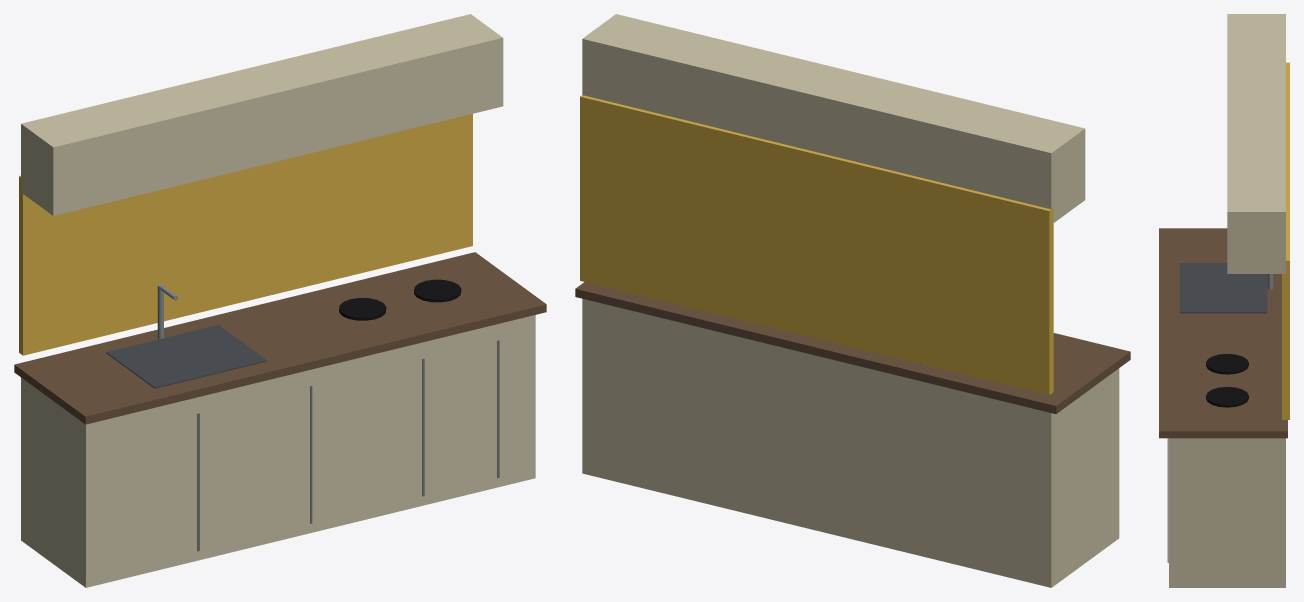
Rendered from Kitchen_counter_set.obj.
The picture shows the model from 3 angles, left to right: view 1: azimuth 30°, elevation 25°; view 2: azimuth 150°, elevation 25°; view 3: azimuth 270°, elevation 25°; orthographic projection. The views are drawn at different scales.
Parts seen in each view (by area): view 1: Kitchen_counter_set; view 2: Kitchen_counter_set; view 3: Kitchen_counter_set.
Boxes of the visible parts, <box> form: Kitchen_counter_set: <box>14,14,546,587</box>; Kitchen_counter_set: <box>575,14,1130,587</box>; Kitchen_counter_set: <box>1159,14,1289,587</box>.
Bounding box in the file's own units: 2.46 × 2.12 × 0.67.
